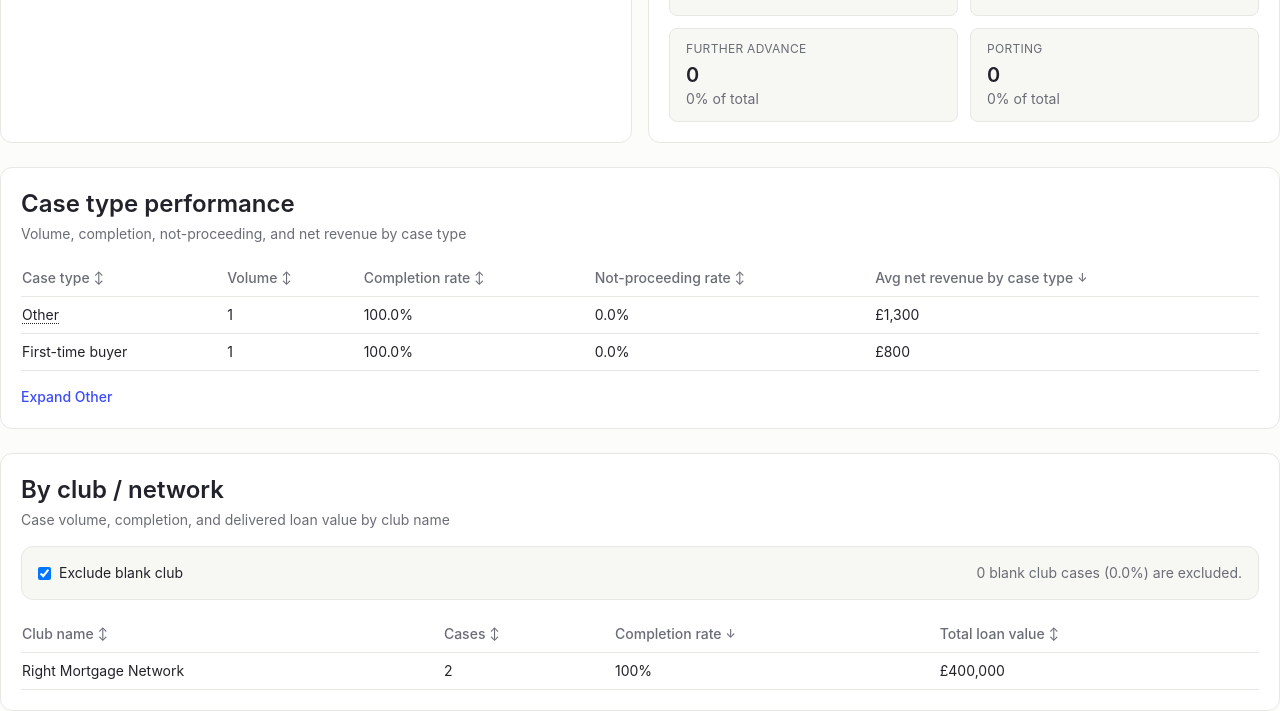
InternalProductAnalysisTab › expands grouped other case types in case type performance table
The image size is (1280, 711).
(page scrolled)
Expected: the text "Other" is shown, [22, 306, 59, 324]
Click the button "Expand Other": click(67, 397) [21, 387, 112, 407]
(page scrolled)
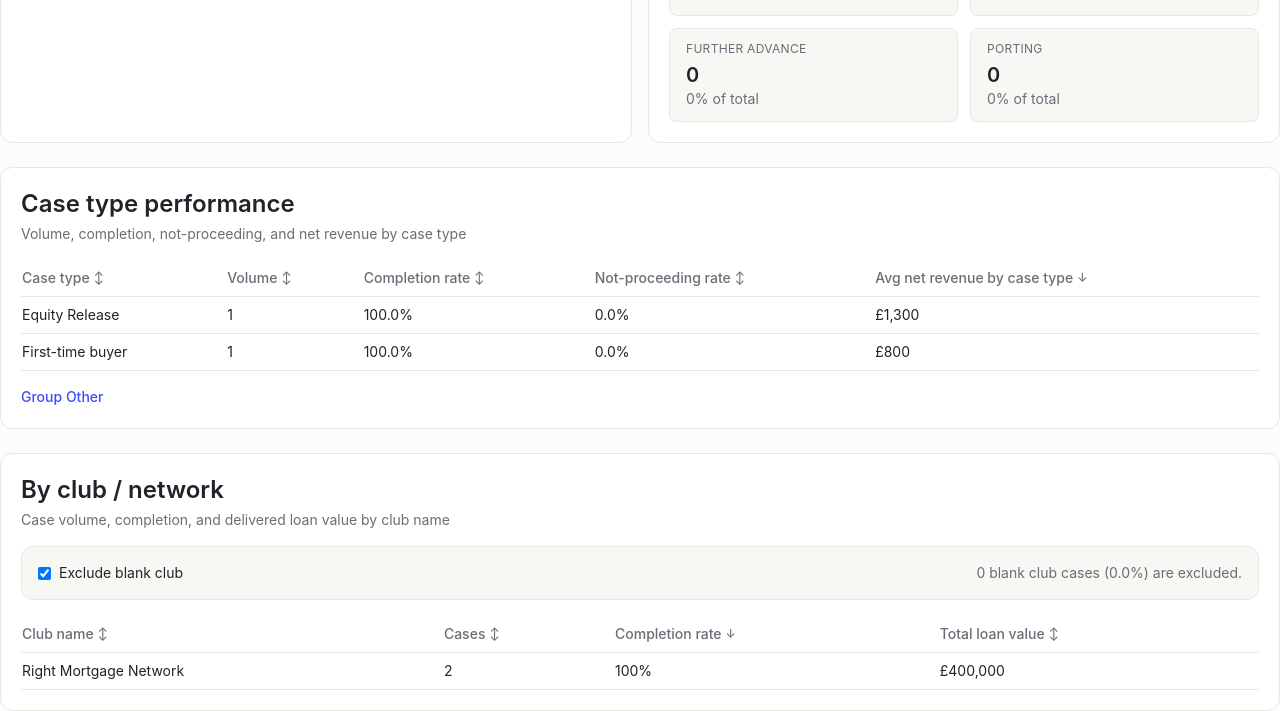
Expected: the button "Group Other" is shown, [21, 387, 104, 407]
